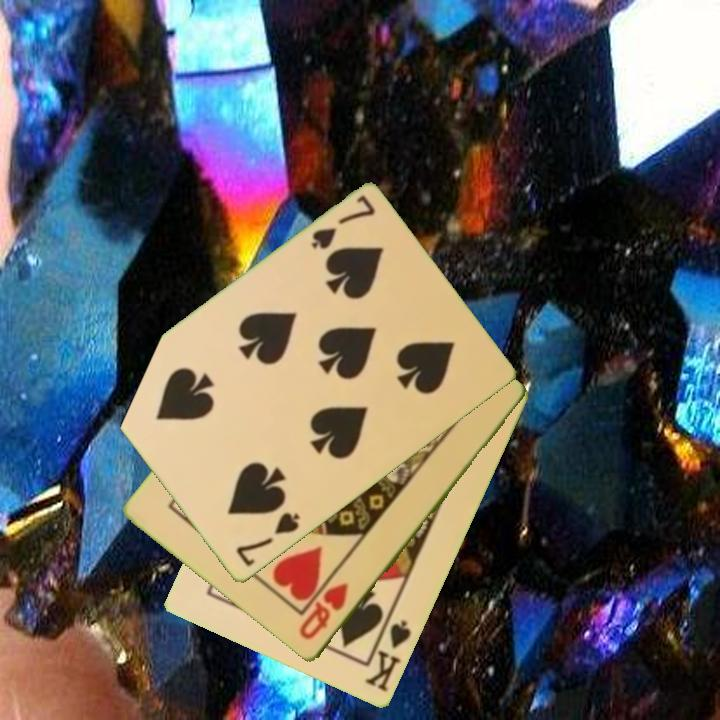7s: (307, 192, 379, 253), (232, 509, 303, 570)
Ks: (361, 611, 415, 696)
Qh: (295, 580, 351, 643)
